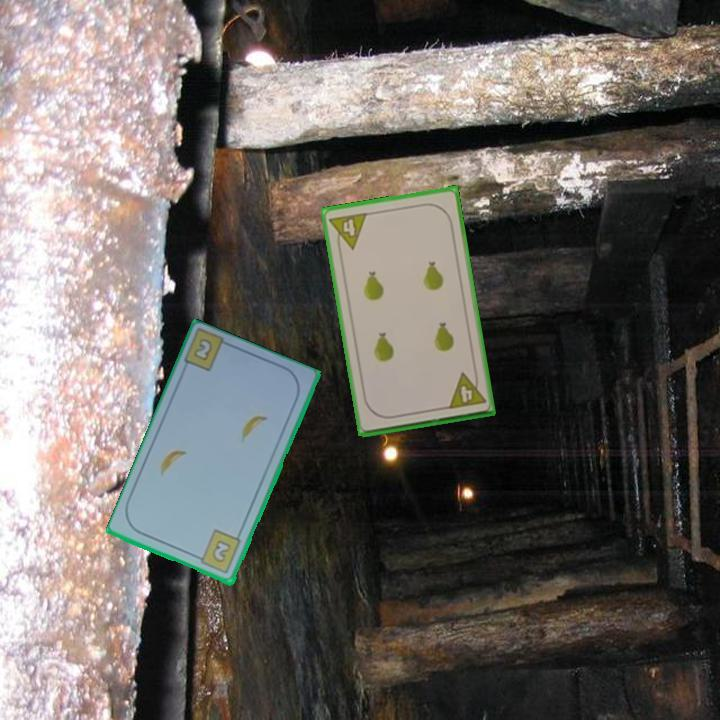2b: (192, 526, 244, 577), (190, 335, 215, 364)
4p: (326, 209, 370, 254), (444, 368, 488, 412)
